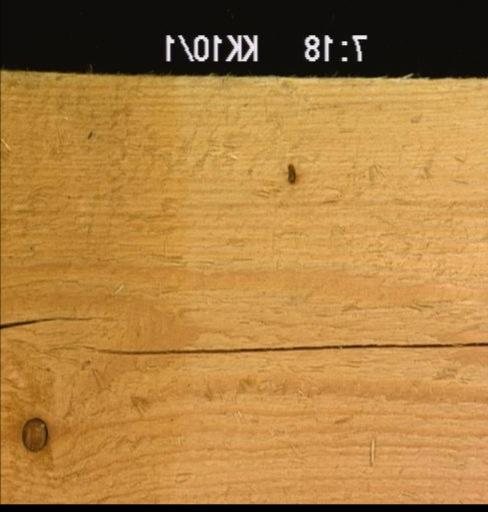dry_knot: (19, 415, 48, 452), (284, 160, 297, 184)
split: (94, 340, 486, 355), (0, 314, 106, 329)
